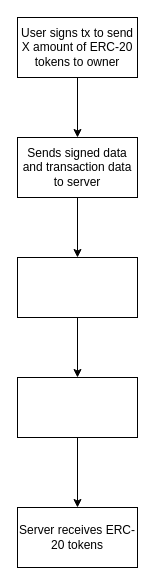
The diagram is 155 pixels wide and 585 high, and some of its shapes have lost their labels. Each missing label, with the centre of its shape:
Right after the transaction is mined, the prevously signed tx gets released.: point (77, 407)
Server calculates amount of value to send, and sends it to user: point (77, 287)
